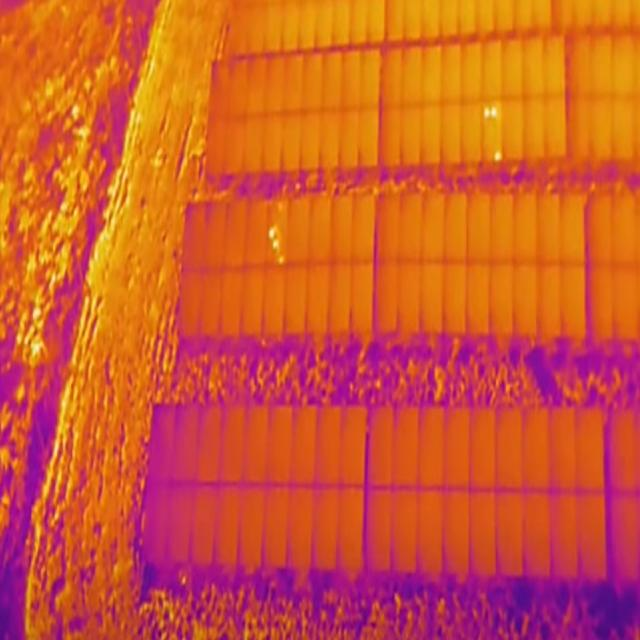hotspot group: (269, 227, 286, 265), (483, 105, 499, 123), (492, 150, 503, 162)
panel with hotspots: (266, 196, 289, 266), (482, 102, 504, 163)
